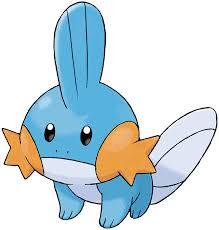mudkip: (1, 2, 216, 228)
